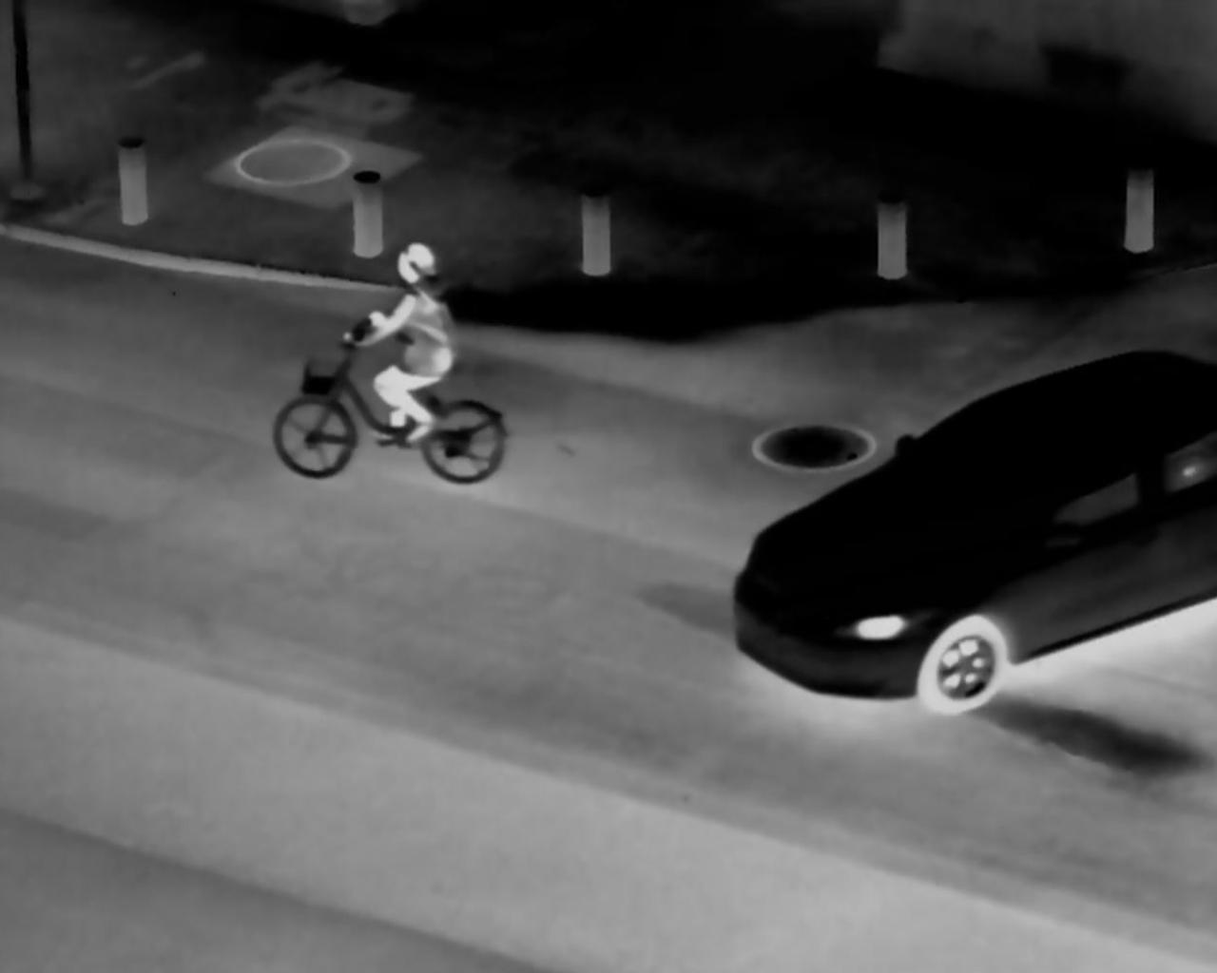person: (344, 226, 462, 454)
